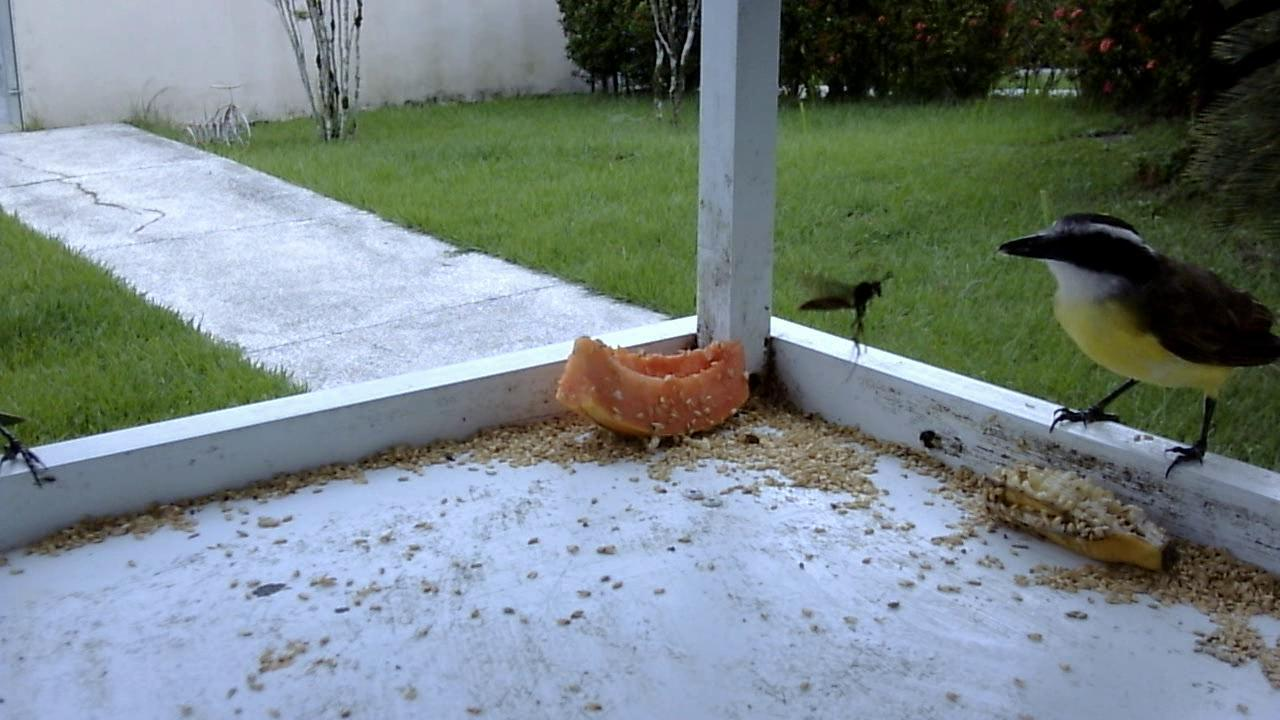bem_te_vi: (980, 196, 1273, 493)
